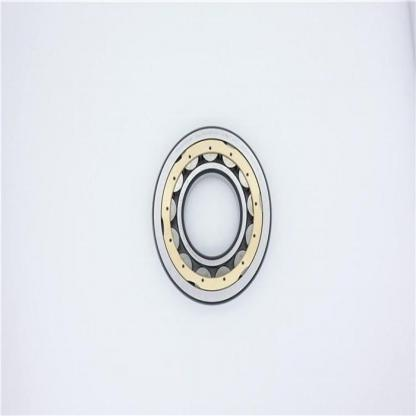FOD: (148, 122, 273, 307)
